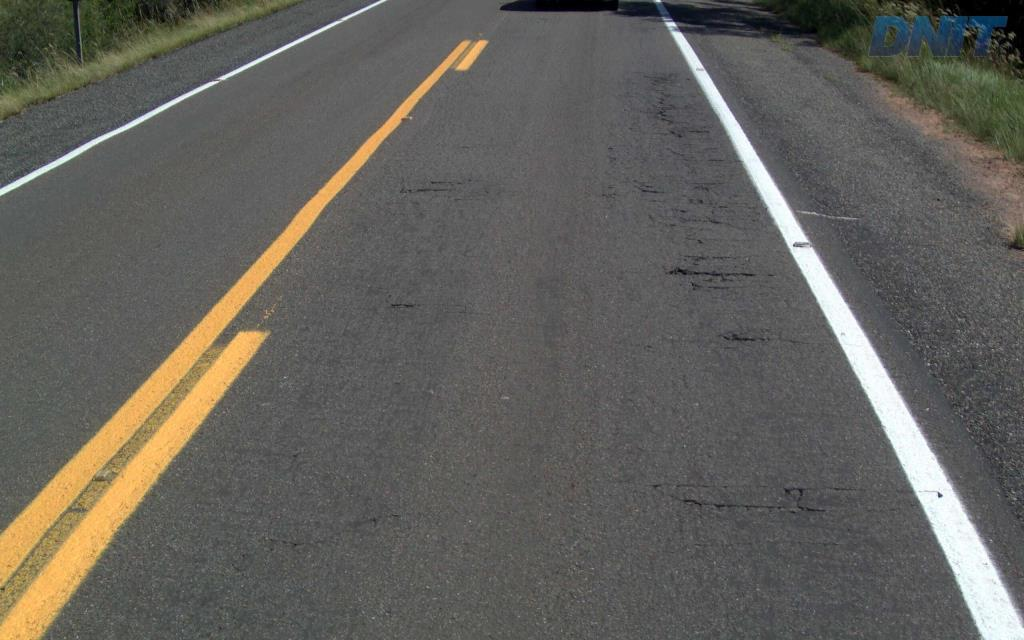crack: (665, 266, 755, 281)
